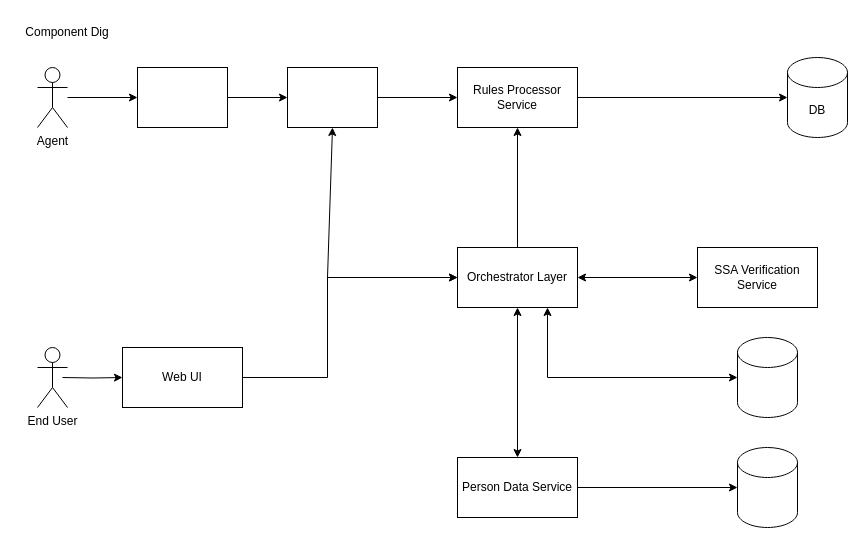
This 865x545 diagram has some shape labels left out. The shapes that lost their labels are listed below. From the top down, each one's box as (x1, y1, x2, y2) in pixels, then its label:
(136, 66, 228, 128): Agent UI
(286, 66, 378, 128): Account Boarding Service
(736, 336, 798, 418): Redis
(736, 446, 798, 528): Person DB
